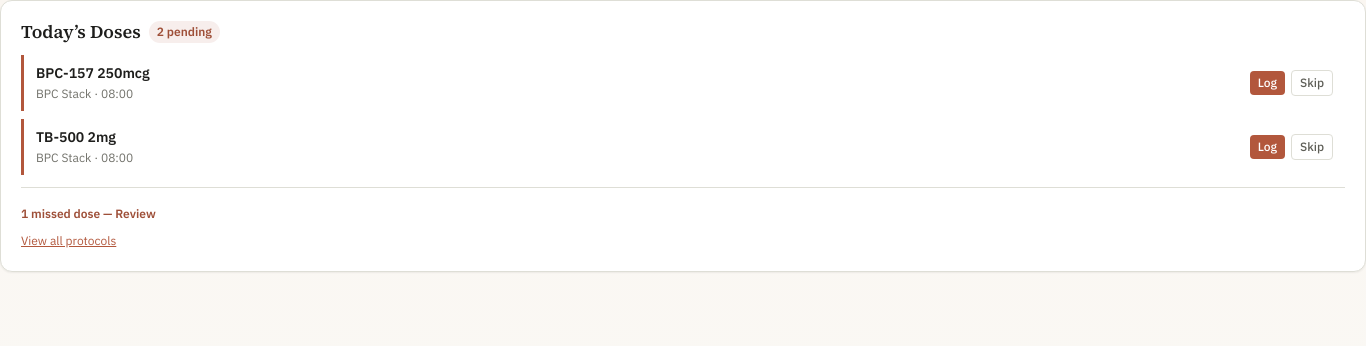
Test: TodaysDoses › missed-doses expander › expands to show per-item rows with Log/Skip on click
Check: the text "2026-03-27" is not shown
Click the button "1 missed dose — Review": (88, 214) [21,205,156,223]
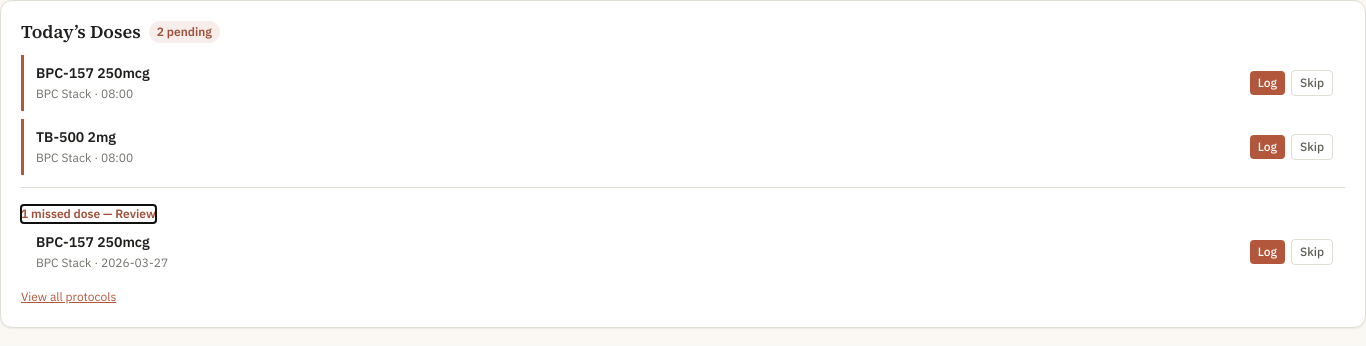
Check: the 1st button "Log" is shown, box [1250,71,1285,95]
Check: the text "BPC Stack · 2026-03-27" is shown, box [36,254,168,272]
